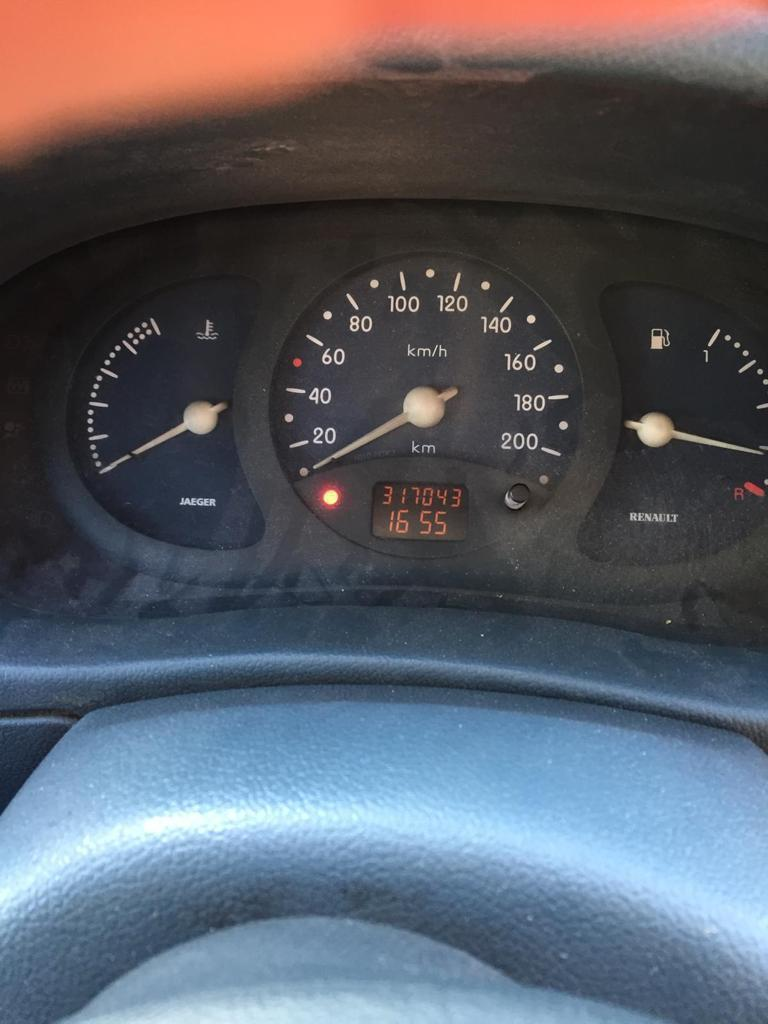0: (421, 486, 434, 507)
1: (386, 509, 395, 532), (399, 485, 409, 504)
3: (380, 483, 394, 505), (450, 486, 462, 508)
4: (435, 487, 448, 505)
5: (433, 509, 448, 536), (417, 509, 432, 535)
6: (396, 508, 410, 534)
7: (410, 485, 421, 505)
odometer: (363, 474, 476, 545)
